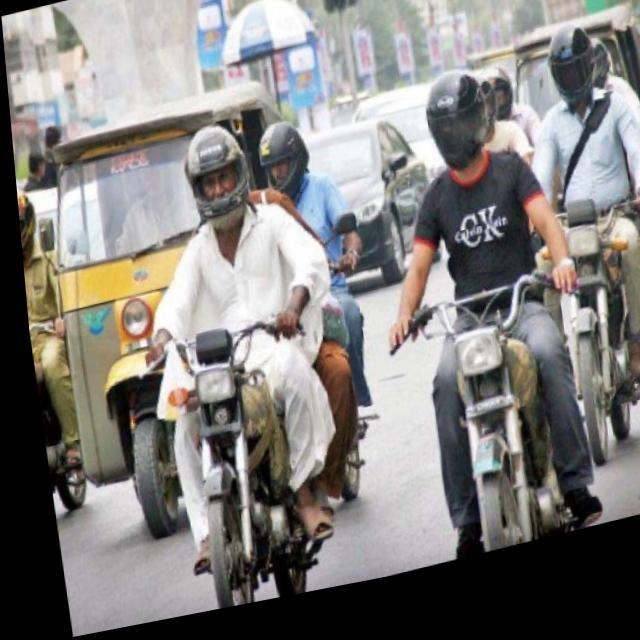Helmet: (174, 111, 260, 241), (412, 64, 492, 174), (539, 23, 602, 117)
